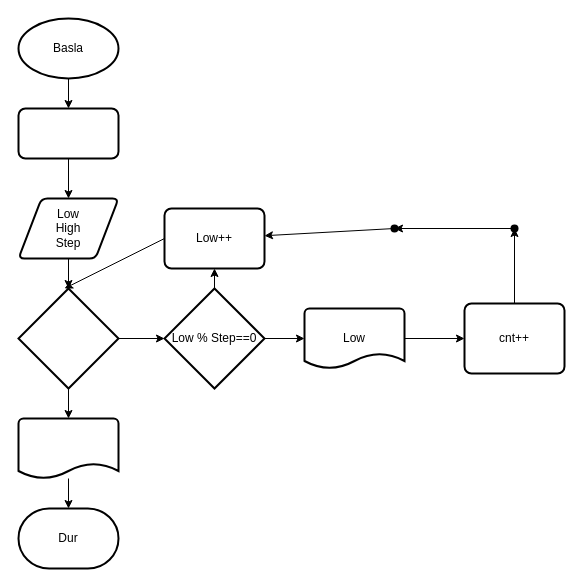
The diagram is 582 pixels wide and 586 high, and some of its shapes have lost their labels. The centre of each missing label's shape, as x and y in pixels:
"cnt" goes at [68,448].
"cnt = 0" goes at [68,133].
"Low>High" goes at [68,338].
